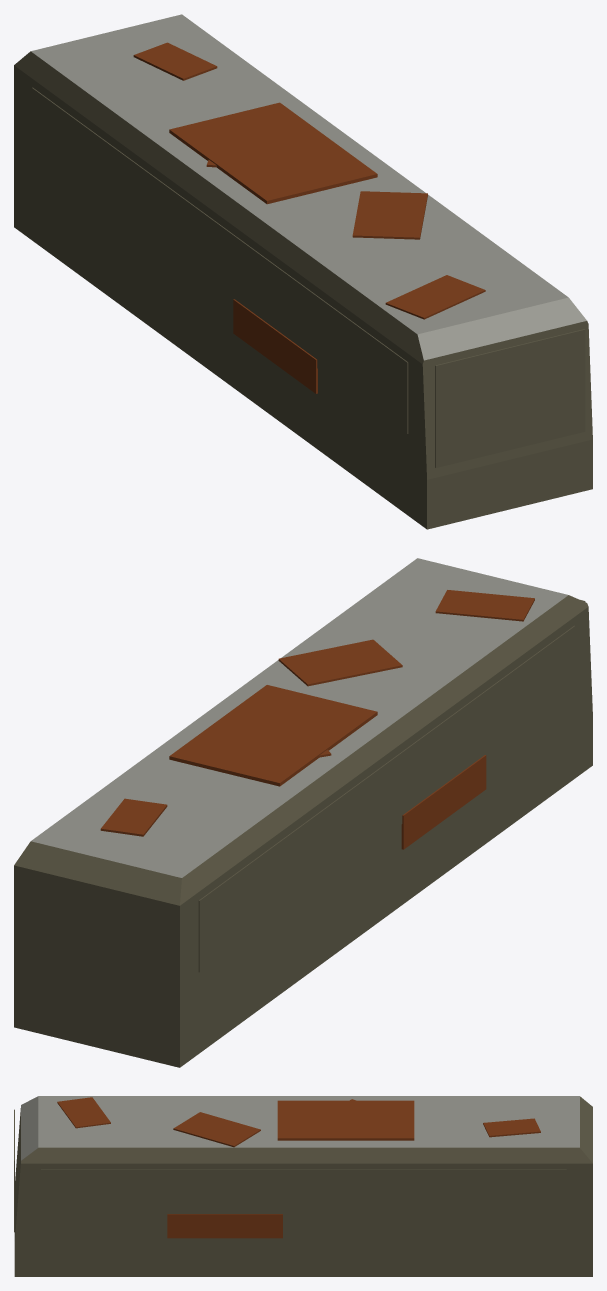
The model's file is SM_Autobus_v4_Quemado_LOD1.fbx.
The picture shows the model from 3 angles, top to bottom: view 1: azimuth 30°, elevation 25°; view 2: azimuth 150°, elevation 25°; view 3: azimuth 270°, elevation 25°; orthographic projection. The views are drawn at different scales.
Visible parts, largest first — view 1: SM_autobus_v4_LOD1; view 2: SM_autobus_v4_LOD1; view 3: SM_autobus_v4_LOD1.
Part boxes in pixels (x1=…): SM_autobus_v4_LOD1: x1=14, y1=14, x2=592, y2=529; SM_autobus_v4_LOD1: x1=14, y1=558, x2=592, y2=1067; SM_autobus_v4_LOD1: x1=14, y1=1096, x2=592, y2=1276.
Size of the model in its own units: 2.62 by 2.71 by 11.02.
